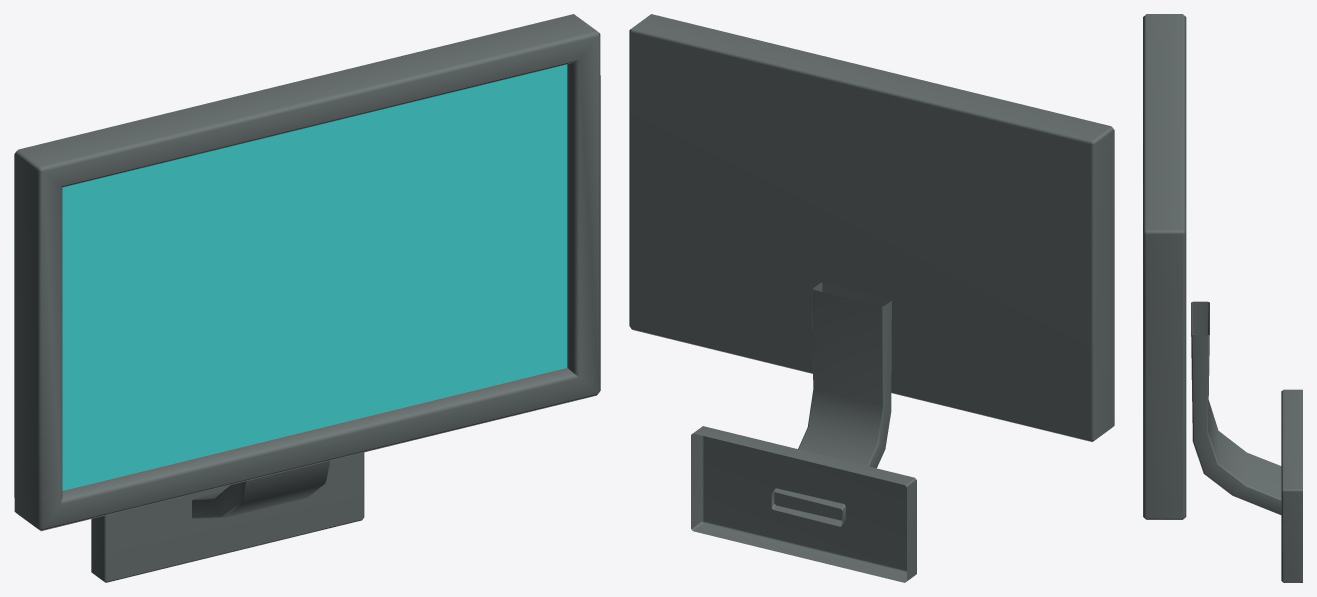
The model's file is Screen_3.fbx.
The picture shows the model from 3 angles, left to right: view 1: azimuth 30°, elevation 25°; view 2: azimuth 150°, elevation 25°; view 3: azimuth 270°, elevation 25°; orthographic projection. The views are drawn at different scales.
Parts seen in each view (by area): view 1: Screen_3; view 2: Screen_3; view 3: Screen_3.
Boxes of the visible parts, box(x1,y1,x2,y2) form: Screen_3: box(14, 14, 600, 582); Screen_3: box(629, 14, 1114, 582); Screen_3: box(1143, 14, 1302, 582).
Size of the model in its own units: 2.16 by 1.89 by 0.6677.
